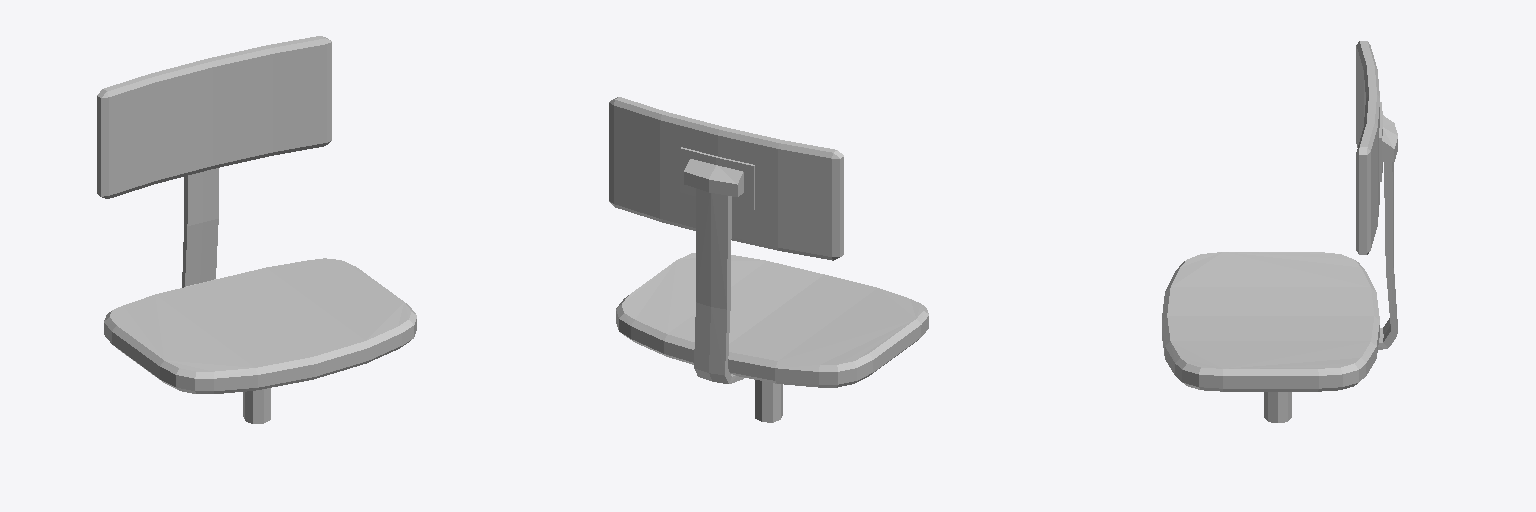
File: Chair_Office_Base_A.obj
3 views of the same model, side by side, from view 1: azimuth 30°, elevation 25°; view 2: azimuth 150°, elevation 25°; view 3: azimuth 270°, elevation 25° (orthographic).
Parts seen in each view (by area): view 1: Chair_Office_Base_A; view 2: Chair_Office_Base_A; view 3: Chair_Office_Base_A.
Part boxes in pixels (bbox=[...]): Chair_Office_Base_A: bbox=[97, 36, 416, 423]; Chair_Office_Base_A: bbox=[609, 97, 928, 422]; Chair_Office_Base_A: bbox=[1162, 41, 1397, 422].
Size of the model in its own units: 0.5963 by 0.7387 by 0.4902.